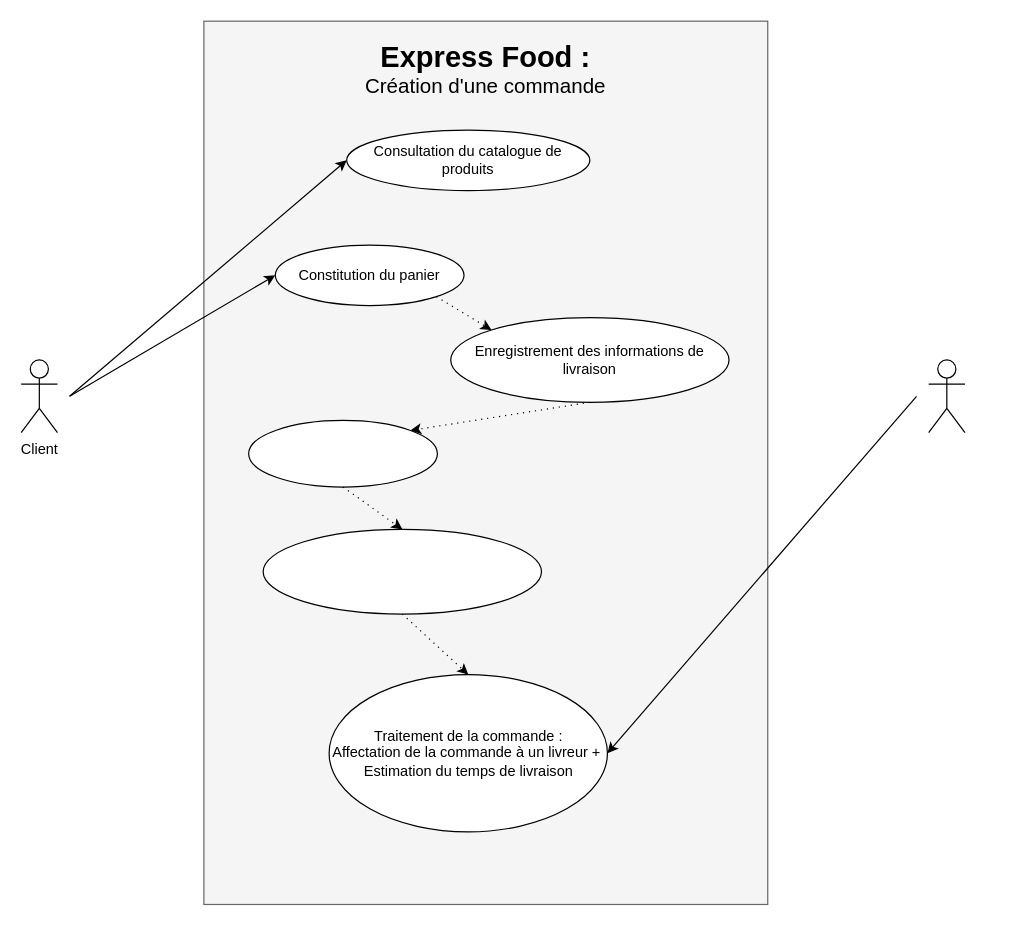
The diagram is 1013 pixels wide and 926 high, and some of its shapes have lost their labels. Each missing label, with the box of its shape:
Envoi des informations dans la base de données: (262, 528, 541, 614)
Express Food: (927, 359, 965, 433)
Réglement du panier: (247, 419, 437, 487)
